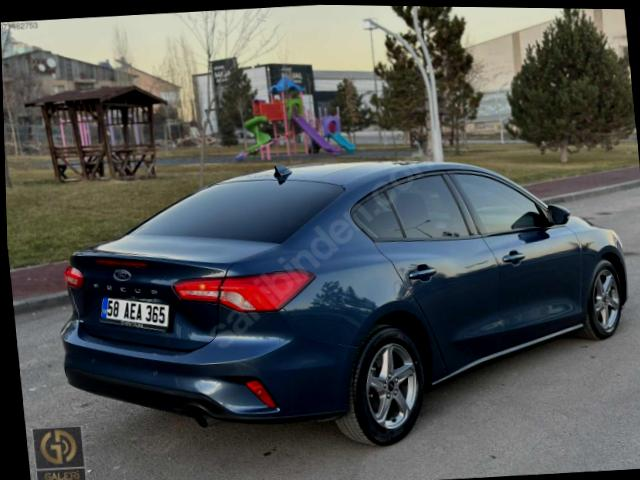plaka: (100, 297, 169, 330)
